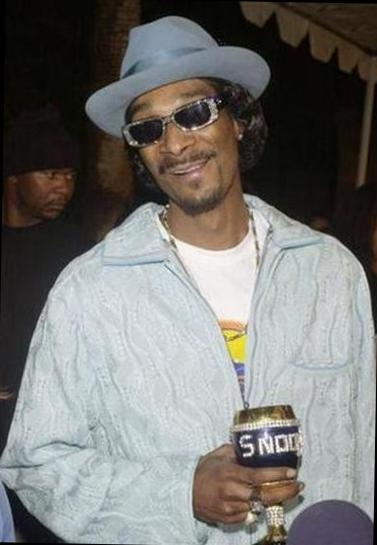Drunk: (139, 95, 239, 206)
